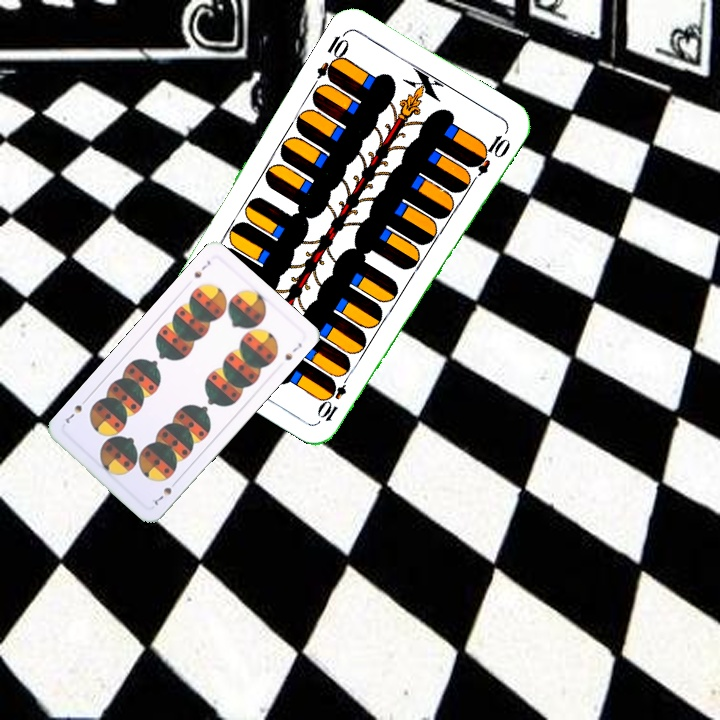E10: (312, 27, 352, 85), (315, 368, 354, 425)
S7: (150, 476, 180, 508), (190, 256, 213, 281)
